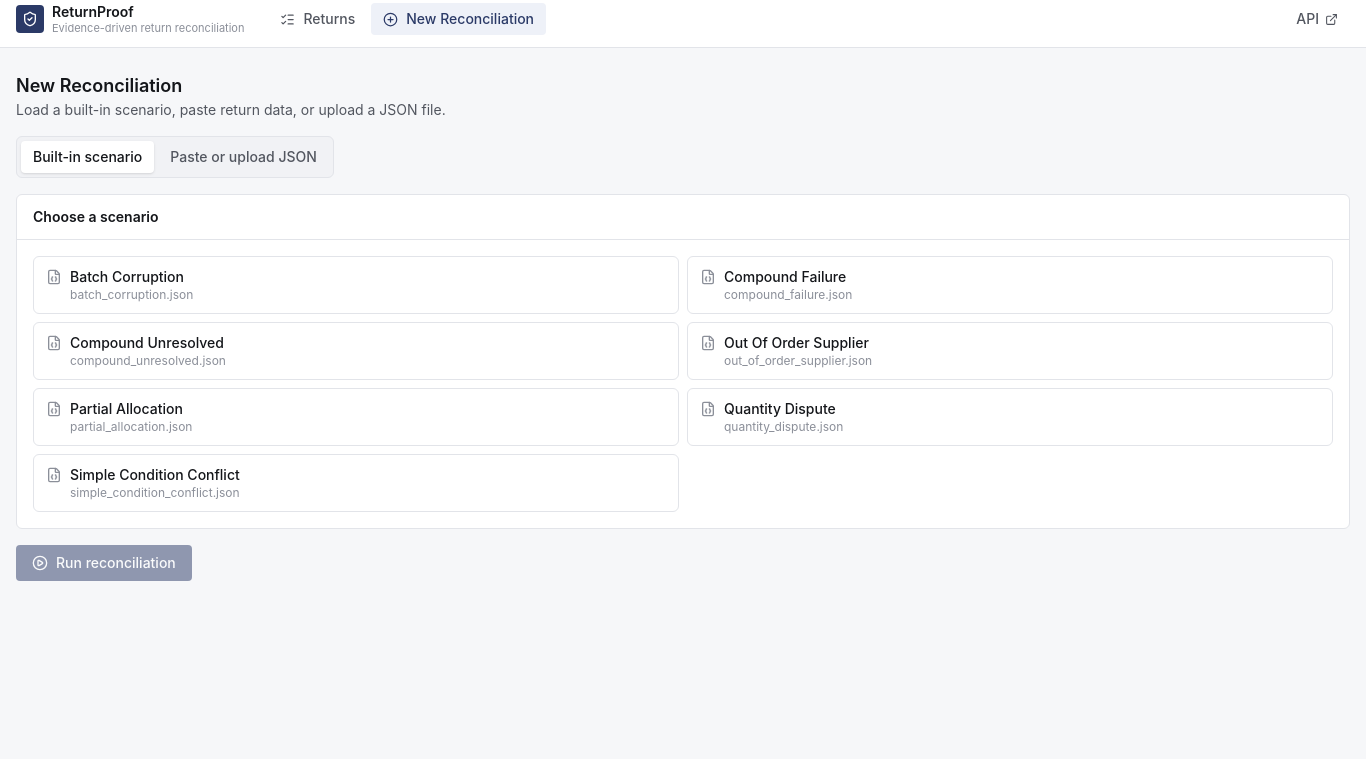
Test: unresolved compound failure flow › loads the scenario, runs it, and shows a defensible quarantine
Click the button "Compound Unresolved compound_unresolved.json" at (147, 342), box [33,322,679,380]
(page scrolled)
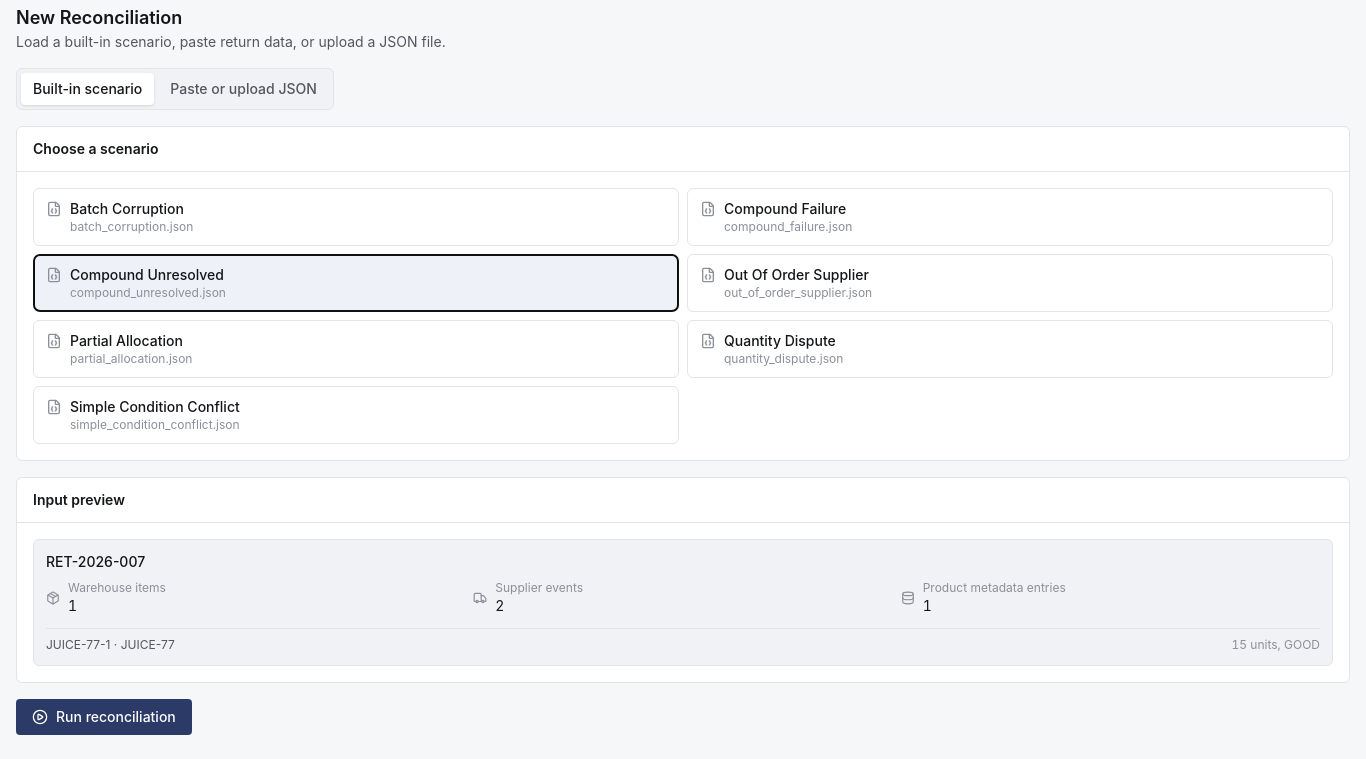
Click the button "Run reconciliation" at (104, 717), box [16,699,192,735]
(page scrolled)
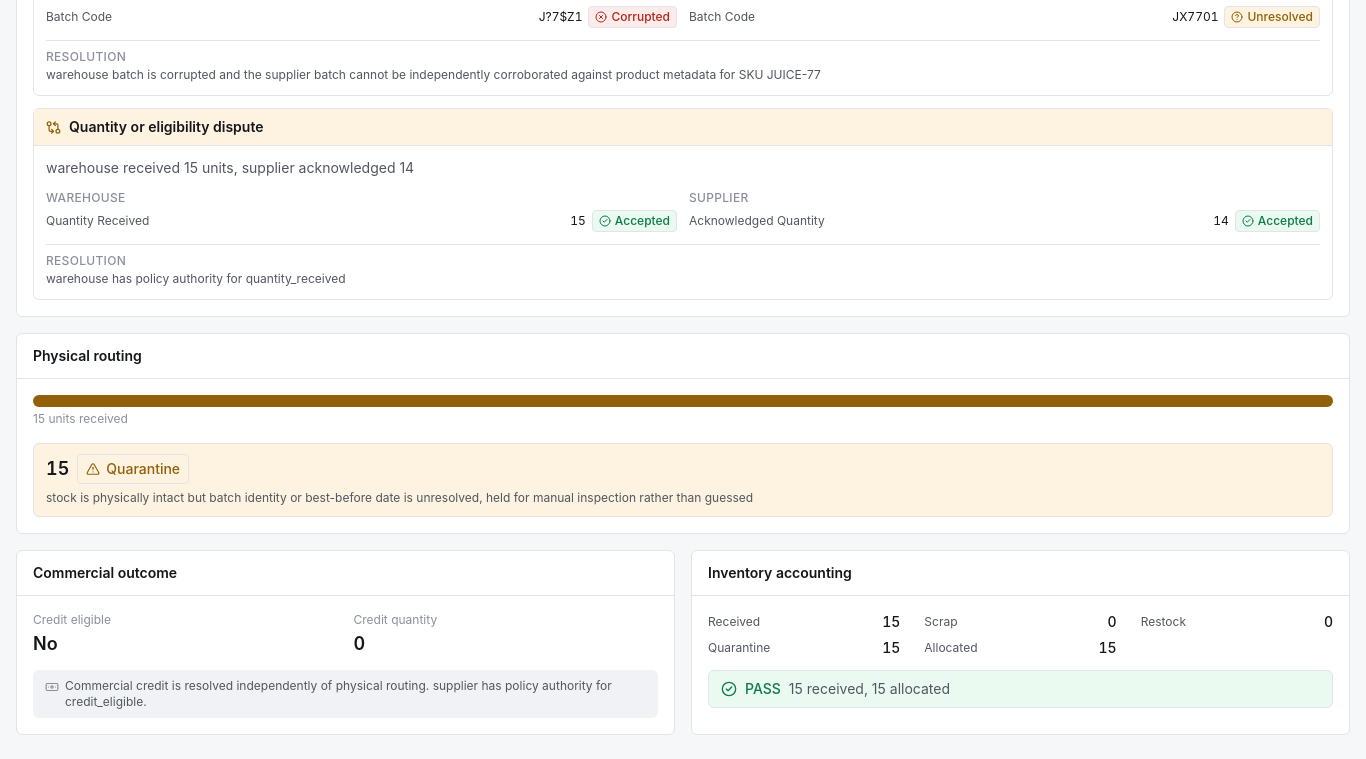
expect the text "Quarantine" is shown: met, box [77,454,189,484]
